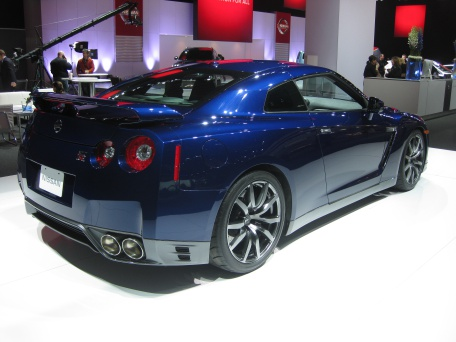car: (19, 59, 429, 274)
